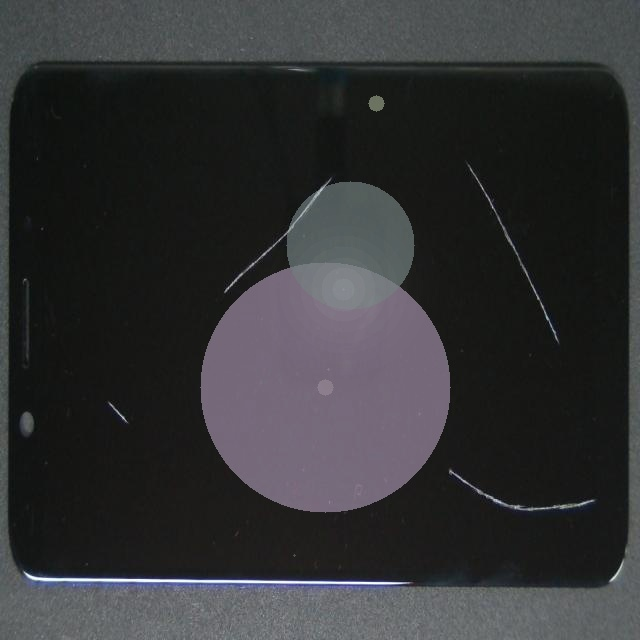scratch: (293, 208, 640, 483), (381, 276, 640, 640), (53, 221, 198, 640), (171, 111, 512, 257)
